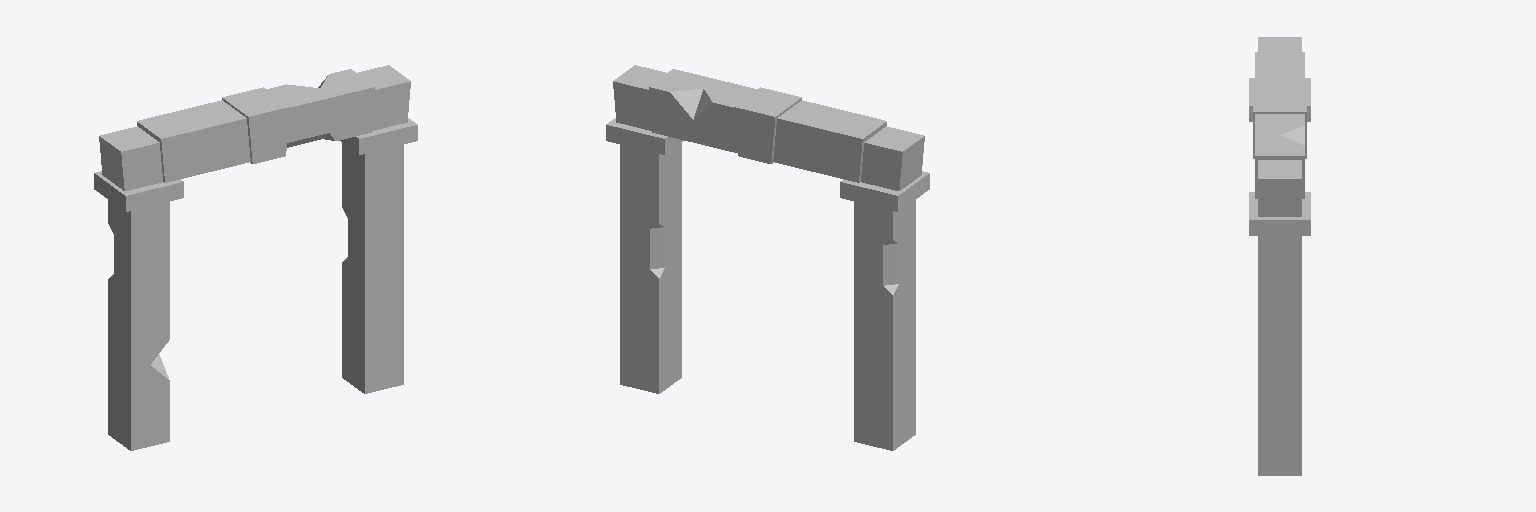
Rendered from Archway3.obj.
The picture shows the model from 3 angles: view 1: azimuth 30°, elevation 25°; view 2: azimuth 150°, elevation 25°; view 3: azimuth 270°, elevation 25°; orthographic projection.
Parts seen in each view (by area): view 1: Archway3; view 2: Archway3; view 3: Archway3.
Boxes of the visible parts, <box> form: Archway3: <box>94,65,417,450</box>; Archway3: <box>606,65,929,450</box>; Archway3: <box>1249,37,1310,475</box>.
Bounding box in the file's own units: 750 × 754 × 140.